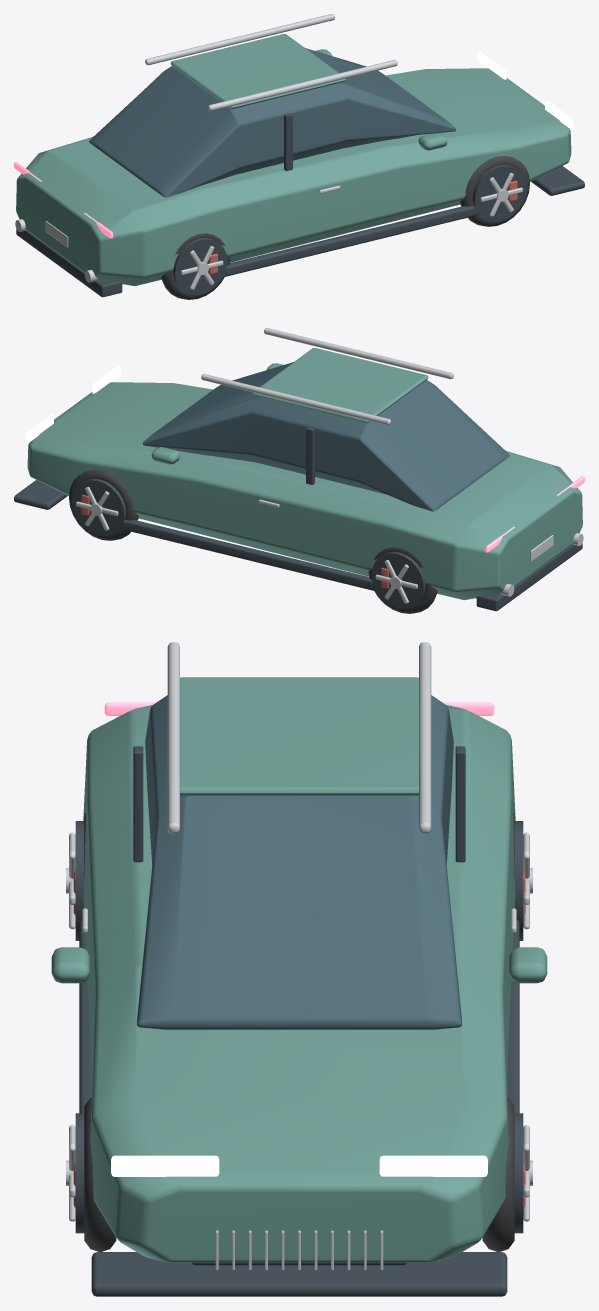
Rendered from SM_lux_estate.glb.
The picture shows the model from 3 angles, top to bottom: view 1: azimuth 30°, elevation 25°; view 2: azimuth 150°, elevation 25°; view 3: azimuth 270°, elevation 25°; orthographic projection. The views are drawn at different scales.
Parts seen in each view (by area): view 1: SM_lux_estate; view 2: SM_lux_estate; view 3: SM_lux_estate.
Boxes of the visible parts, bbox=[...] form: SM_lux_estate: bbox=[14, 14, 584, 299]; SM_lux_estate: bbox=[14, 328, 584, 613]; SM_lux_estate: bbox=[51, 642, 547, 1296].
Bounding box in the file's own units: 4.92 × 1.65 × 2.16.
